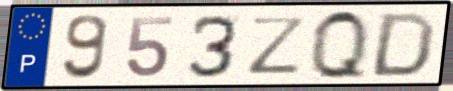3: (187, 12, 241, 79)
5: (124, 14, 177, 78)
9: (62, 12, 111, 81)
D: (366, 10, 439, 79)
Q: (309, 7, 370, 83)
Z: (247, 15, 311, 76)
